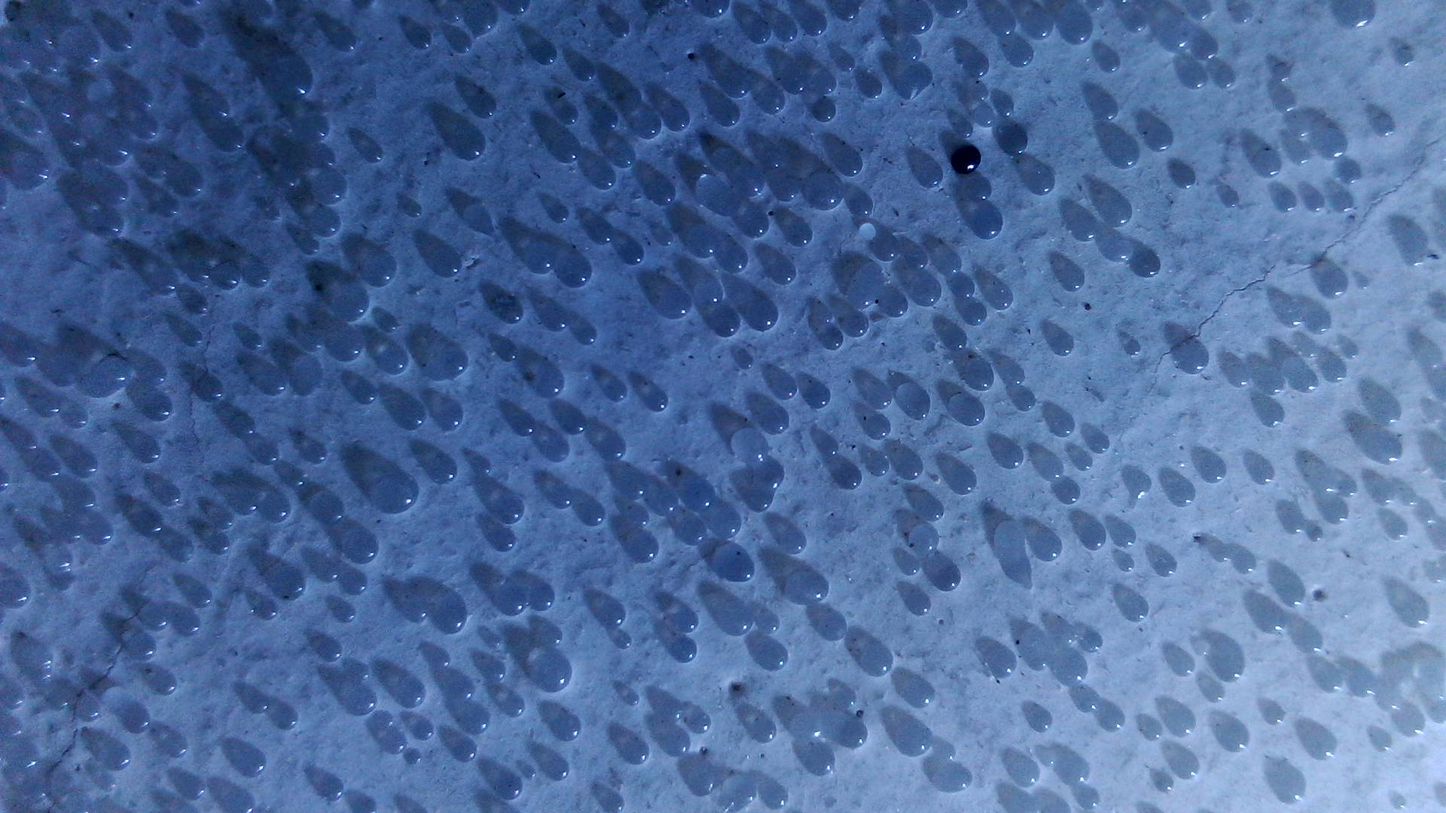GrassBeadSeg: (373, 473, 417, 513), (532, 653, 571, 692), (715, 547, 755, 583), (275, 61, 313, 98), (426, 347, 468, 379), (789, 571, 828, 604), (432, 598, 468, 633), (807, 175, 844, 209), (331, 288, 369, 321), (343, 531, 380, 563), (969, 206, 1003, 239), (709, 506, 742, 540), (16, 155, 49, 188), (451, 128, 485, 160), (330, 329, 364, 361), (900, 3, 933, 35), (657, 287, 691, 318), (721, 604, 755, 635), (258, 491, 291, 522), (533, 365, 564, 398), (314, 172, 348, 202), (683, 480, 717, 510), (393, 400, 428, 429), (745, 299, 777, 330), (1107, 137, 1139, 168), (559, 257, 592, 287), (755, 641, 788, 671), (687, 227, 720, 257), (69, 36, 102, 66), (272, 568, 305, 598), (1, 576, 31, 609), (899, 725, 930, 756), (953, 395, 984, 426), (313, 494, 345, 524), (1368, 434, 1401, 463), (364, 255, 395, 285), (911, 276, 942, 306), (901, 388, 931, 419), (1176, 343, 1207, 373), (1062, 14, 1092, 44), (1161, 23, 1191, 53), (1317, 130, 1347, 160), (431, 248, 462, 277), (526, 244, 557, 273), (99, 360, 130, 389), (378, 345, 408, 374), (964, 361, 993, 391), (1057, 655, 1087, 684), (758, 406, 789, 434), (427, 455, 458, 483), (257, 367, 288, 395), (718, 245, 749, 273), (497, 586, 528, 614), (294, 363, 322, 394), (694, 278, 723, 307), (951, 145, 980, 174), (794, 712, 823, 741), (806, 745, 834, 775), (539, 435, 570, 462), (736, 435, 767, 462), (711, 309, 740, 337), (863, 647, 892, 675), (397, 680, 426, 708), (1103, 199, 1132, 227), (310, 209, 340, 236), (494, 496, 524, 523), (633, 112, 663, 139), (630, 534, 658, 562), (597, 434, 626, 461), (494, 296, 523, 323), (99, 178, 128, 205), (174, 170, 204, 196), (1070, 215, 1100, 241), (100, 140, 130, 166), (840, 720, 867, 748), (552, 136, 580, 163), (1034, 534, 1061, 562), (932, 564, 960, 591), (436, 403, 463, 431), (213, 261, 241, 288), (346, 688, 375, 714), (468, 6, 497, 32), (93, 211, 123, 236), (757, 87, 784, 114), (819, 613, 846, 640), (619, 471, 646, 498), (1319, 271, 1347, 297), (1277, 774, 1303, 802), (144, 396, 173, 421), (906, 681, 932, 708), (950, 468, 977, 494), (462, 708, 489, 734), (237, 750, 264, 776), (989, 651, 1015, 678), (649, 489, 676, 515), (215, 126, 243, 151), (32, 455, 60, 480), (300, 116, 329, 140), (835, 464, 861, 490), (1147, 125, 1173, 151), (780, 529, 806, 555), (918, 496, 944, 522), (911, 527, 937, 553), (1402, 600, 1428, 626), (715, 190, 741, 216), (745, 18, 771, 44), (1027, 169, 1054, 194), (1133, 252, 1160, 277), (680, 519, 707, 544), (1254, 151, 1281, 176), (1002, 128, 1027, 155), (151, 269, 178, 294), (1106, 236, 1133, 261), (554, 715, 580, 740), (1062, 759, 1088, 784), (715, 102, 741, 127), (72, 452, 98, 477), (599, 602, 625, 627), (137, 510, 163, 535), (447, 677, 473, 702), (1260, 607, 1286, 632), (140, 362, 166, 387), (1216, 656, 1242, 681), (1258, 369, 1284, 394), (1027, 13, 1053, 38), (738, 173, 764, 198), (725, 73, 750, 99), (773, 176, 799, 201), (14, 341, 40, 366), (649, 181, 676, 205), (590, 165, 617, 189), (560, 410, 587, 434), (197, 377, 224, 401), (124, 708, 151, 732), (624, 739, 649, 764), (770, 260, 795, 285), (898, 455, 923, 480), (87, 519, 112, 544), (130, 634, 155, 659), (783, 71, 808, 96), (759, 464, 784, 489), (664, 732, 690, 756), (342, 571, 368, 595), (495, 775, 521, 799), (104, 745, 130, 769), (690, 769, 714, 795), (672, 638, 697, 662), (579, 501, 604, 525), (883, 293, 908, 317), (1014, 761, 1039, 785), (1008, 43, 1033, 67), (1081, 525, 1106, 549), (1170, 481, 1194, 506), (964, 54, 989, 78), (1306, 310, 1331, 334), (1182, 64, 1207, 88), (170, 537, 194, 562), (1375, 400, 1400, 424), (1293, 367, 1317, 392), (1400, 711, 1424, 736), (991, 13, 1016, 37), (1279, 303, 1304, 327), (529, 585, 554, 609), (849, 284, 874, 308), (903, 247, 928, 271), (997, 445, 1023, 468), (843, 313, 869, 336), (544, 307, 570, 330), (204, 98, 230, 121), (656, 700, 682, 723), (232, 491, 258, 514), (866, 416, 890, 440), (1051, 413, 1075, 437), (1261, 403, 1285, 427), (743, 213, 767, 237), (77, 697, 101, 721), (1298, 629, 1322, 653), (1223, 726, 1246, 751), (788, 223, 813, 246), (1124, 598, 1149, 621), (1170, 712, 1193, 737), (747, 488, 772, 511), (966, 178, 991, 201), (59, 126, 84, 149), (532, 43, 558, 65), (492, 529, 516, 552), (752, 718, 775, 742), (473, 95, 497, 118), (1202, 459, 1225, 483), (1094, 98, 1118, 121), (1060, 268, 1084, 291), (989, 285, 1012, 309), (1310, 735, 1334, 758), (813, 71, 836, 95), (895, 76, 918, 100), (1041, 458, 1064, 482), (1076, 690, 1100, 713), (1053, 624, 1077, 647), (734, 780, 757, 804), (620, 242, 645, 264), (136, 440, 161, 462), (181, 26, 206, 48), (144, 607, 169, 629), (673, 610, 698, 632), (944, 768, 969, 790), (807, 385, 830, 408), (1057, 481, 1080, 504), (667, 108, 690, 131), (919, 165, 942, 188), (1129, 472, 1152, 495), (963, 303, 987, 325), (820, 327, 844, 349), (551, 486, 575, 508), (1319, 669, 1343, 691), (761, 146, 783, 170), (899, 38, 921, 62), (756, 611, 780, 633), (908, 592, 930, 615), (319, 639, 342, 661), (247, 263, 270, 285), (1325, 501, 1348, 523), (177, 613, 200, 635), (596, 109, 619, 131), (804, 14, 827, 36), (51, 550, 73, 573), (1353, 673, 1375, 696), (775, 20, 798, 42), (835, 1, 858, 23), (61, 521, 83, 544), (590, 221, 614, 242), (838, 154, 862, 175), (254, 444, 278, 465), (869, 385, 890, 409), (73, 489, 97, 510), (872, 239, 896, 260), (27, 649, 52, 669), (275, 707, 297, 729), (1030, 710, 1052, 732), (612, 145, 634, 167), (813, 101, 835, 123), (136, 117, 158, 139), (159, 485, 181, 507), (454, 739, 476, 761), (514, 413, 536, 435), (165, 735, 187, 757), (953, 277, 975, 299), (939, 251, 961, 273), (131, 90, 153, 112), (147, 156, 169, 178), (354, 382, 377, 403), (232, 415, 255, 436), (334, 31, 357, 52), (1194, 38, 1217, 59), (1283, 583, 1304, 606), (606, 380, 628, 401), (575, 60, 597, 81), (1052, 334, 1074, 355), (154, 673, 176, 694), (766, 786, 787, 808), (776, 378, 797, 400), (1102, 709, 1124, 730), (410, 28, 432, 49), (187, 294, 209, 315), (190, 586, 212, 607), (183, 778, 205, 799), (110, 31, 132, 52), (1079, 787, 1100, 809), (16, 433, 38, 454), (40, 396, 62, 417), (646, 391, 669, 411), (321, 778, 344, 798), (504, 695, 525, 716), (306, 443, 327, 464), (1176, 757, 1197, 778), (1215, 67, 1236, 88), (1340, 163, 1361, 184), (484, 660, 505, 681), (542, 627, 563, 648), (1174, 167, 1196, 187), (946, 330, 966, 352), (1324, 361, 1346, 381), (208, 534, 230, 554), (22, 117, 44, 137), (319, 560, 339, 582), (212, 510, 234, 530), (577, 324, 597, 345), (547, 759, 568, 779), (1115, 526, 1135, 547), (1173, 655, 1194, 675), (861, 78, 881, 99), (384, 732, 404, 753), (1128, 12, 1148, 33), (1232, 5, 1252, 26), (1292, 117, 1312, 138), (18, 751, 39, 771), (869, 455, 888, 477), (689, 712, 709, 732), (451, 33, 471, 53), (975, 108, 995, 128), (51, 691, 71, 711), (5, 688, 25, 708), (3, 720, 23, 740), (1253, 464, 1272, 485), (1276, 91, 1295, 112), (853, 195, 872, 216), (313, 148, 334, 167), (285, 468, 306, 487), (304, 330, 323, 351), (277, 170, 298, 189), (1192, 0, 1211, 21), (1314, 475, 1333, 496), (1377, 485, 1396, 506), (603, 793, 624, 812), (558, 105, 578, 124), (1100, 53, 1120, 72), (414, 720, 434, 739), (1005, 365, 1024, 385), (1375, 117, 1395, 136), (1277, 192, 1296, 212), (430, 651, 450, 670), (249, 694, 270, 712), (67, 410, 88, 428), (498, 342, 517, 361), (1157, 557, 1176, 576), (1017, 392, 1036, 411), (1083, 632, 1102, 651), (1237, 553, 1255, 573), (1389, 519, 1407, 539), (1291, 145, 1311, 163), (336, 604, 355, 622), (1091, 434, 1109, 453), (245, 333, 264, 351), (1335, 193, 1353, 212), (160, 198, 178, 217), (1306, 193, 1325, 211), (837, 54, 855, 73), (1406, 249, 1425, 267), (409, 603, 428, 621), (258, 601, 278, 618), (1075, 451, 1092, 471), (1207, 684, 1225, 702), (612, 20, 630, 38), (1374, 733, 1392, 751), (1285, 515, 1302, 534), (902, 558, 921, 575), (1029, 652, 1048, 669), (1144, 723, 1163, 740), (551, 206, 569, 223), (365, 145, 383, 162), (185, 329, 203, 346), (302, 238, 320, 255), (475, 460, 492, 478), (10, 90, 28, 107), (42, 58, 60, 75), (38, 31, 56, 48), (997, 100, 1014, 118), (1381, 693, 1398, 711), (193, 264, 211, 281), (380, 315, 398, 332), (1267, 706, 1284, 723), (55, 102, 72, 119), (15, 51, 32, 68), (957, 121, 974, 138), (972, 84, 989, 101), (1273, 66, 1290, 83), (1398, 48, 1414, 65), (406, 750, 423, 766), (378, 712, 395, 728), (352, 665, 369, 681), (100, 776, 117, 791), (31, 785, 48, 800), (1158, 775, 1173, 791), (1343, 343, 1358, 359), (1341, 481, 1356, 497), (1126, 340, 1141, 356), (1224, 192, 1240, 207), (1302, 344, 1317, 359), (1233, 372, 1248, 387), (1422, 510, 1437, 525), (1042, 751, 1057, 766), (941, 746, 956, 761), (818, 309, 833, 324), (739, 354, 754, 369), (824, 442, 839, 457), (407, 204, 422, 218), (446, 7, 461, 21), (659, 231, 674, 245), (842, 691, 856, 706), (1403, 491, 1417, 505), (487, 635, 501, 649), (618, 634, 632, 648), (1432, 569, 1445, 584), (625, 692, 639, 705), (1309, 529, 1323, 542), (1393, 796, 1406, 810), (1216, 549, 1230, 562), (1120, 559, 1133, 572), (1358, 279, 1369, 290), (526, 768, 537, 778)
